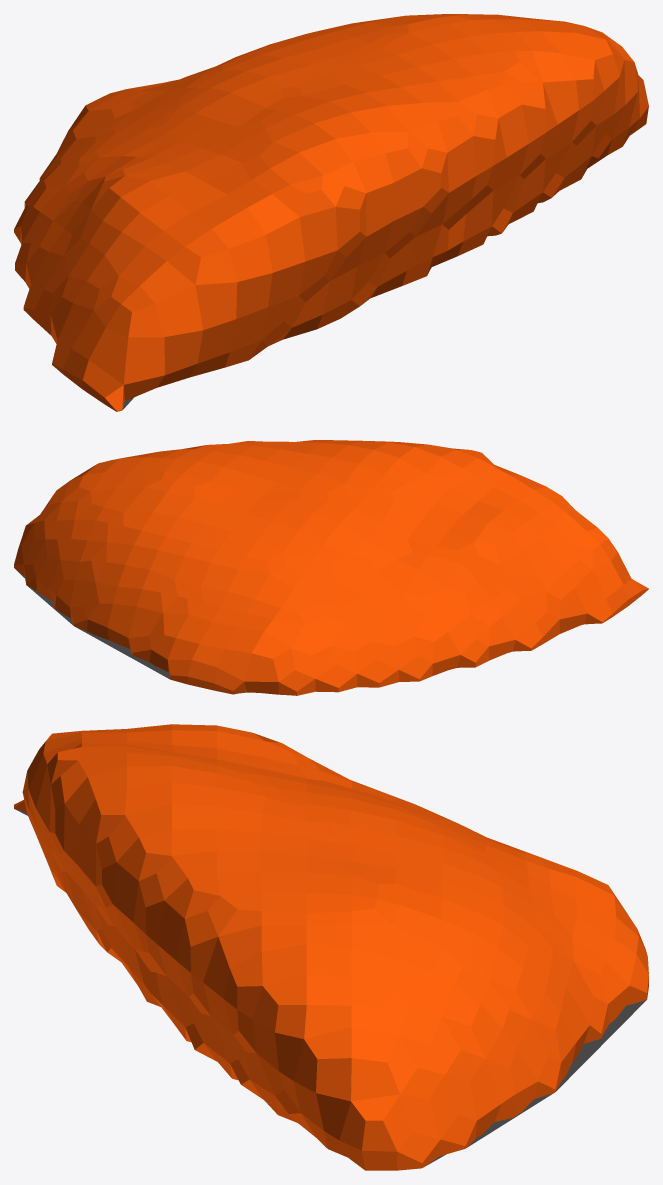
3 renders of one model, top to bottom at view 1: azimuth 30°, elevation 25°; view 2: azimuth 150°, elevation 25°; view 3: azimuth 270°, elevation 25°, orthographic. The views are drawn at different scales.
Parts seen in each view (by area): view 1: 19.020; view 2: 19.020; view 3: 19.020.
Part boxes in pixels (<box>): 19.020: <box>14,14,648,411</box>; 19.020: <box>14,440,648,695</box>; 19.020: <box>14,724,648,1170</box>.
Bounding box in the file's own units: 9.65 × 2.27 × 7.06.
